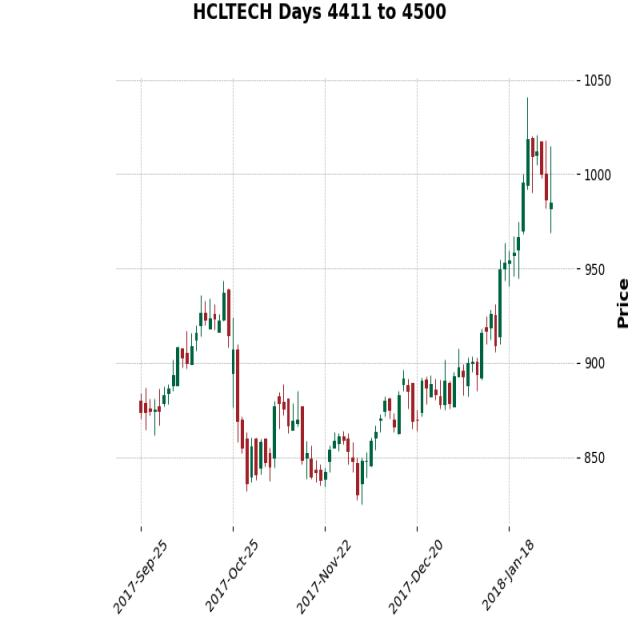Triple Bottom Reversal: (216, 368, 538, 518)
